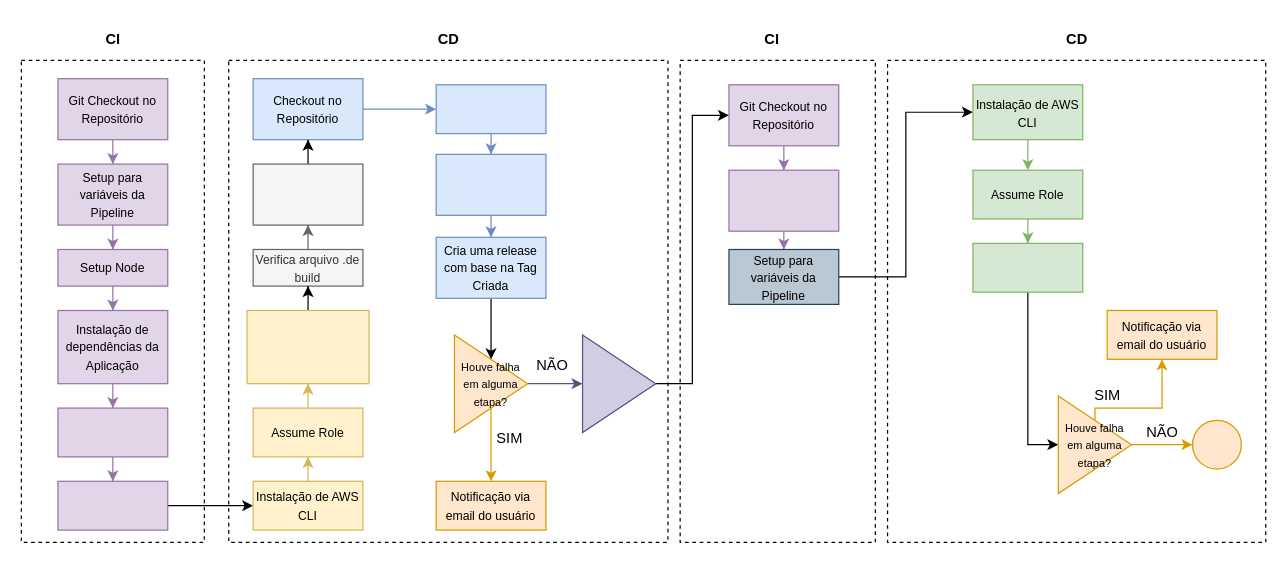
Image size: 1287x564. Some labels were removed from this diagram. The centre of each missing label's shape, as x and y in pixels:
Aprovação dos mantainers para deploy produtivo: (618,383)
Build do Projeto: (112,505)
Cria uma nova tag no repositório: (490,184)
Etapa de Deploy no ambiente de desenvolvimento: (307,346)
Etapa de Deploy no ambiente produtivo: (1027,267)
Execução de Testes: (112,432)
Fim: (1216,444)
Procura as tags existentes: (490,109)
Realiza o upload do artefato: (307,194)
Verificação da aprovação: (783,200)
